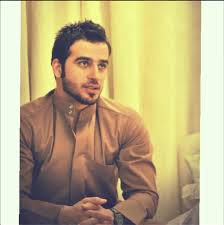middle_eastern_male: (60, 34, 114, 100)
